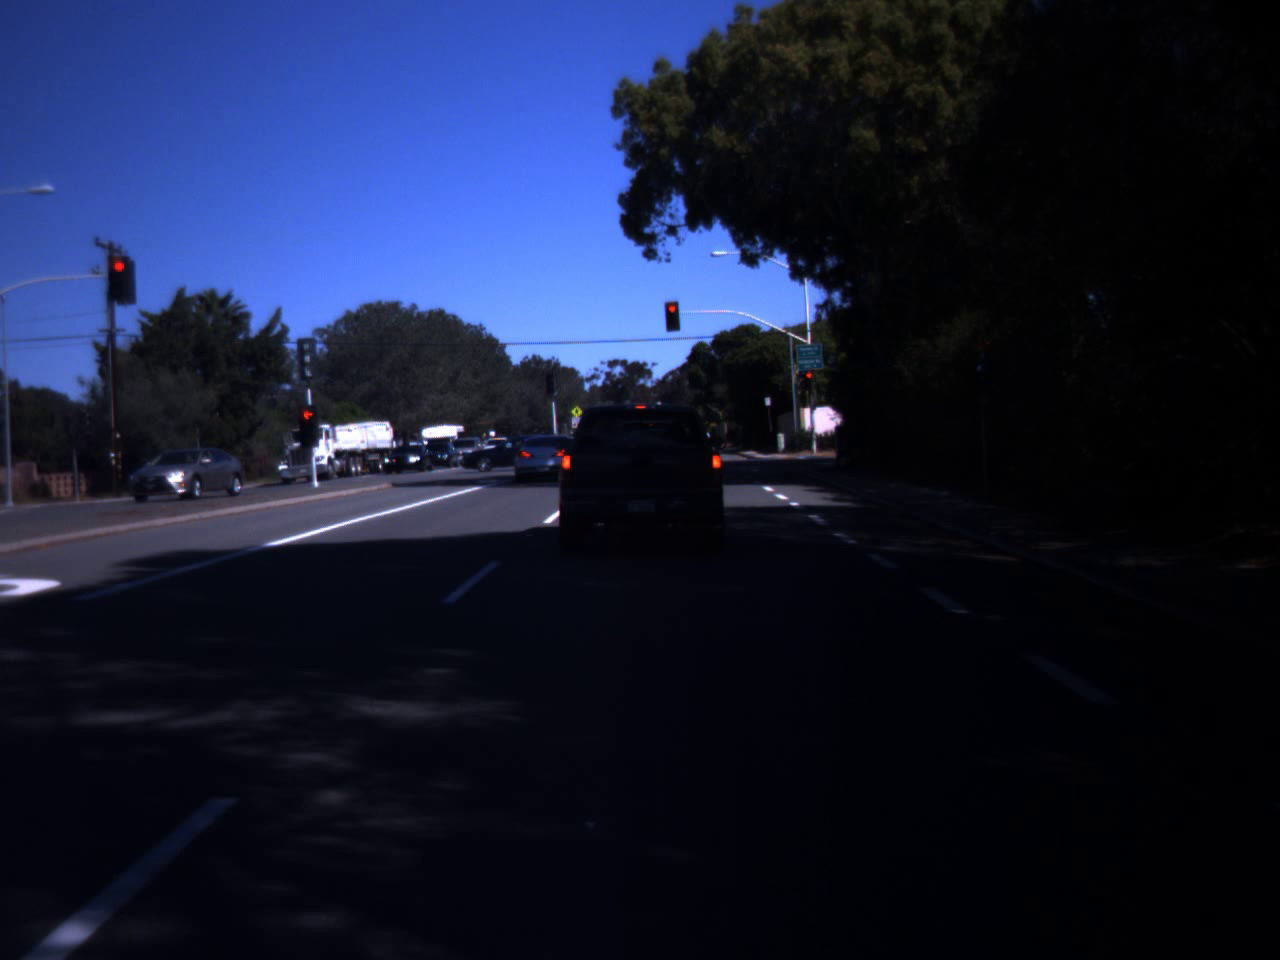stop: (296, 407, 321, 443), (108, 259, 132, 290), (666, 304, 678, 326), (802, 372, 814, 390)
